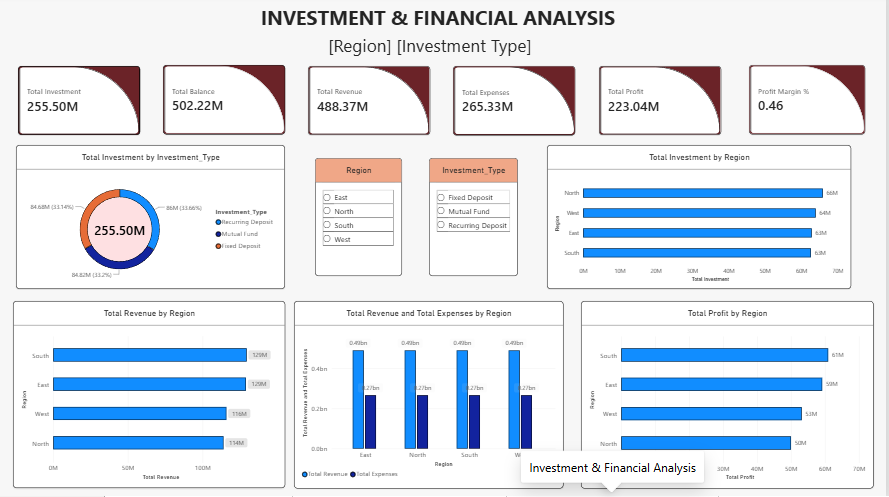

The page's visual inventory and layout, read from the dashboard file:
{"tool":"powerbi","page":{"name":"Investment & Financial Analysis","canvas":[1920,1080],"ordinal":2},"visuals":[{"type":"textbox","box":[10.8,17.3,1879.2,62.6],"z":0},{"type":"textbox","box":[10.8,79.9,1844.6,56.2],"z":1000},{"type":"cardVisual","fields":{"Data":["transaction_data.Total Investment"]},"box":[43.2,151.2,263.5,149],"z":2000},{"type":"cardVisual","fields":{"Data":["transaction_data.Total Balance"]},"box":[356.4,149,264,150],"z":3000},{"type":"cardVisual","fields":{"Data":["bank_data.Total Revenue"]},"box":[669.6,151.2,263.5,149],"z":4000},{"type":"cardVisual","fields":{"Data":["bank_data.Total Expenses"]},"box":[982.8,151.2,264,150],"z":5000},{"type":"cardVisual","fields":{"Data":["bank_data.Total Profit"]},"box":[1298.2,151.2,263.5,149],"z":6000},{"type":"cardVisual","fields":{"Data":["bank_data.Profit Margin %"]},"box":[1622.2,149,251,150],"z":7000},{"type":"donutChart","fields":{"Category":["transaction_data.Investment_Type"],"Y":["transaction_data.Total Investment"]},"box":[38.9,321.8,581,311],"z":8000},{"type":"clusteredBarChart","fields":{"Category":["customer_data.Region"],"Y":["transaction_data.Total Investment"]},"box":[1185.8,321.8,656.6,311],"z":9000},{"type":"clusteredColumnChart","fields":{"Category":["customer_data.Region"],"Y":["bank_data.Total Revenue","bank_data.Total Expenses"]},"box":[638.6,659.1,581.8,404.5],"z":10000},{"type":"clusteredBarChart","fields":{"Category":["bank_data.Region"],"Y":["bank_data.Total Revenue"]},"box":[32.4,658.8,587.5,403.9],"z":11000},{"type":"clusteredBarChart","fields":{"Category":["bank_data.Region"],"Y":["bank_data.Total Profit"]},"box":[1259.1,659.1,631.8,404.5],"z":12000},{"type":"listSlicer","fields":{"Values":["bank_data.Region"]},"box":[684.7,349.9,187.9,254.9],"z":13000},{"type":"listSlicer","fields":{"Values":["transaction_data.Investment_Type"]},"box":[931,349.9,192.2,254.9],"z":14000}]}

Visuals, with their boxes in screenshot pixels (x1, y1, x2, y2), scaled from the page's 1920x1080 canvas onto the 889x497 screenshot:
textbox: {"left": 5, "top": 8, "right": 875, "bottom": 37}
textbox: {"left": 5, "top": 37, "right": 859, "bottom": 63}
cardVisual - transaction_data.Total Investment: {"left": 20, "top": 70, "right": 142, "bottom": 138}
cardVisual - transaction_data.Total Balance: {"left": 165, "top": 69, "right": 287, "bottom": 138}
cardVisual - bank_data.Total Revenue: {"left": 310, "top": 70, "right": 432, "bottom": 138}
cardVisual - bank_data.Total Expenses: {"left": 455, "top": 70, "right": 577, "bottom": 139}
cardVisual - bank_data.Total Profit: {"left": 601, "top": 70, "right": 723, "bottom": 138}
cardVisual - bank_data.Profit Margin %: {"left": 751, "top": 69, "right": 867, "bottom": 138}
donutChart - transaction_data.Investment_Type x transaction_data.Total Investment: {"left": 18, "top": 148, "right": 287, "bottom": 291}
clusteredBarChart - customer_data.Region x transaction_data.Total Investment: {"left": 549, "top": 148, "right": 853, "bottom": 291}
clusteredColumnChart - customer_data.Region x bank_data.Total Revenue: {"left": 296, "top": 303, "right": 565, "bottom": 489}
clusteredBarChart - bank_data.Region x bank_data.Total Revenue: {"left": 15, "top": 303, "right": 287, "bottom": 489}
clusteredBarChart - bank_data.Region x bank_data.Total Profit: {"left": 583, "top": 303, "right": 876, "bottom": 489}
listSlicer - bank_data.Region: {"left": 317, "top": 161, "right": 404, "bottom": 278}
listSlicer - transaction_data.Investment_Type: {"left": 431, "top": 161, "right": 520, "bottom": 278}
